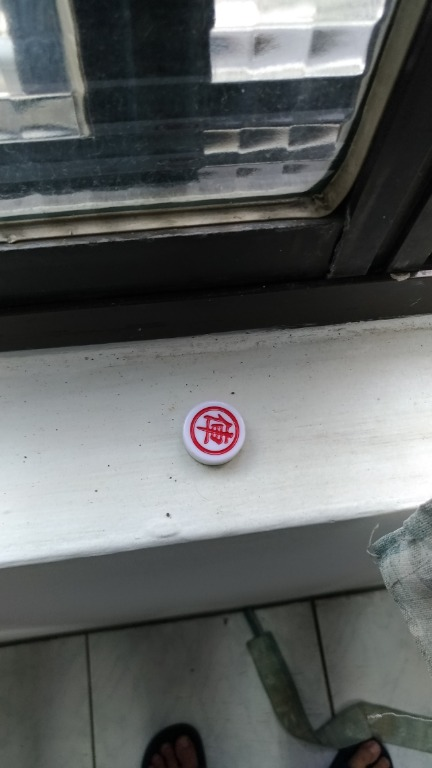r-rook: (174, 395, 273, 475)
